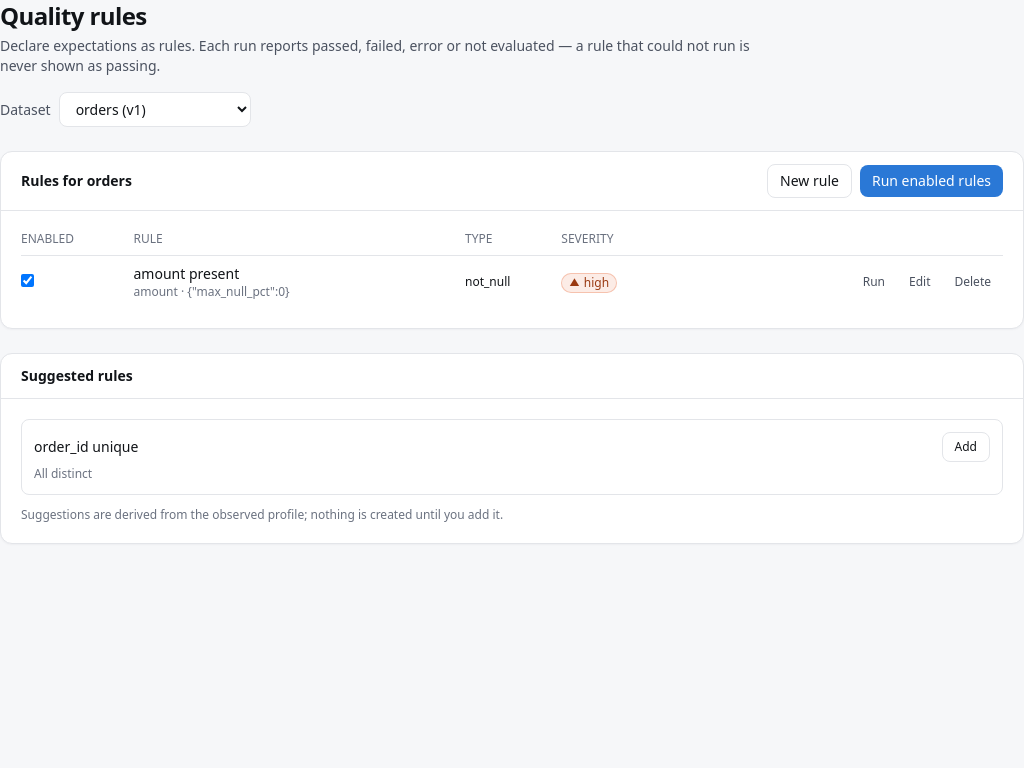
Test: RulesPage › surfaces server-side validation errors on the form
Step 1. Click the button "New rule" → (810, 181), box [767,164,852,198]
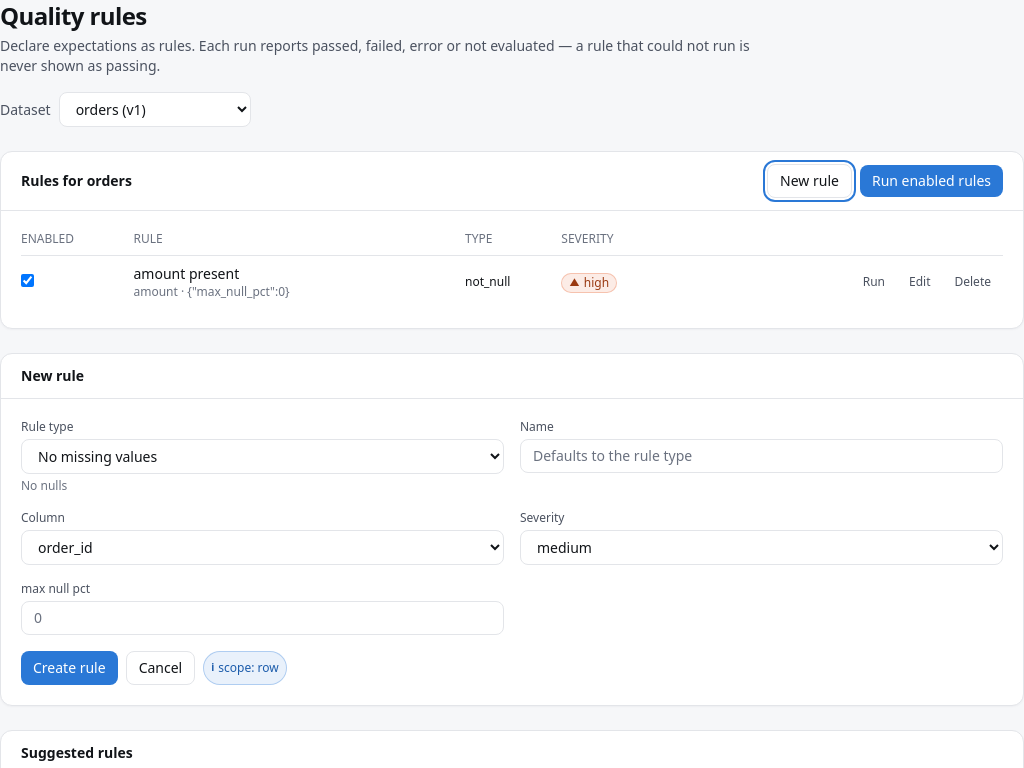
Step 2. Select "Numeric range" in the dropdown labelled "Rule type" → (262, 456), box [21,439,504,474]
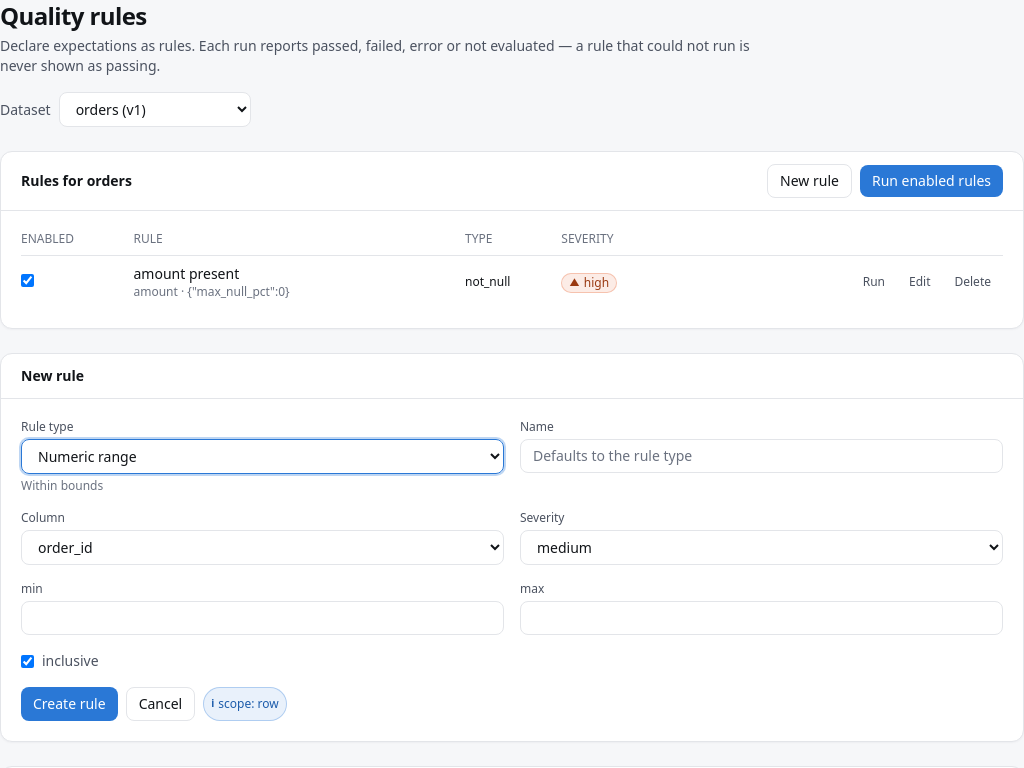
Step 3. Click the button "Create rule" → (69, 704), box [21,687,118,721]
(page scrolled)
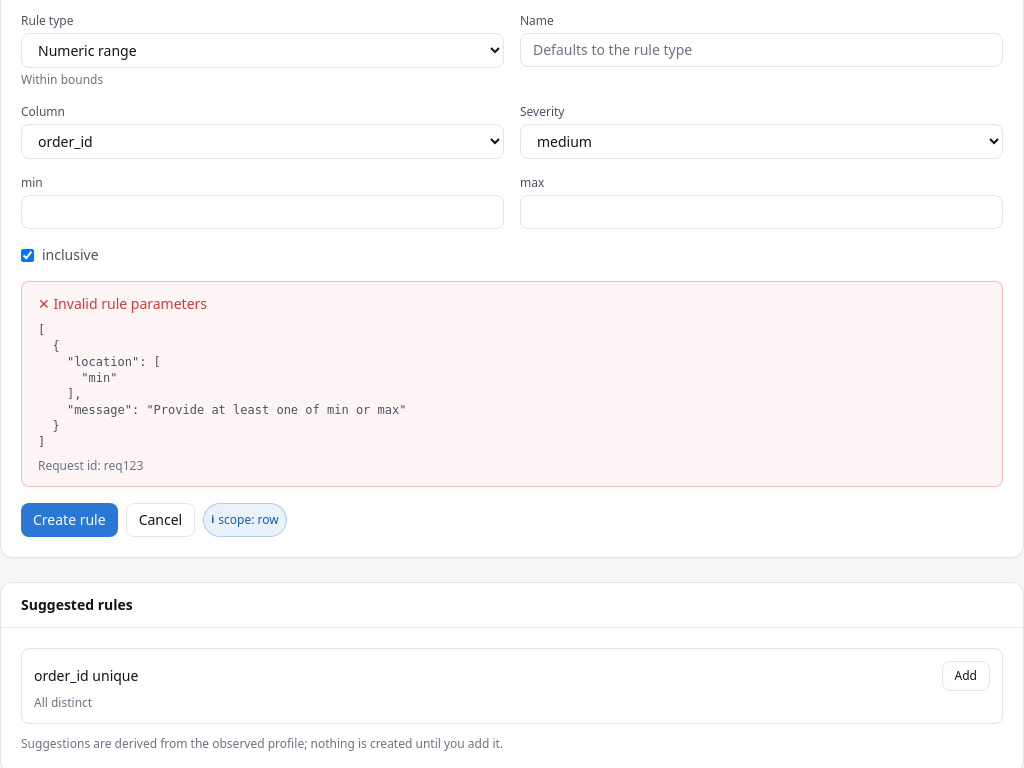
Check: the message shows "Invalid rule parameters", box [53,294,207,313]
Check: the message shows "Provide at least one of min or max", box [38,323,406,449]
